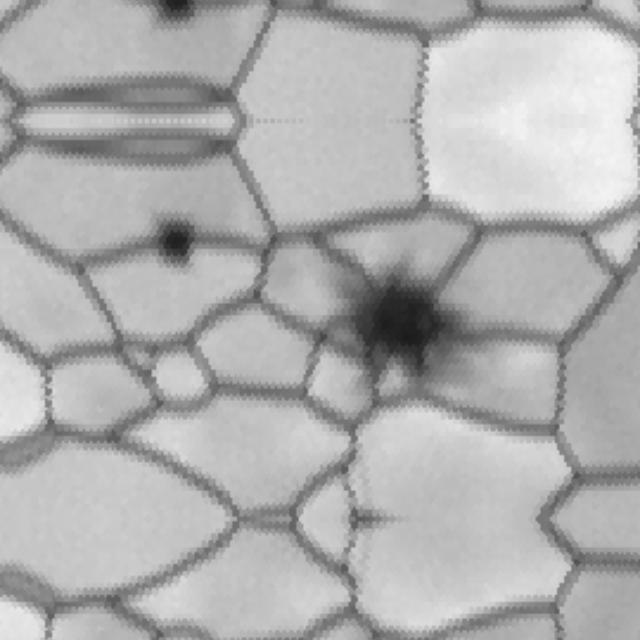good_void: (337, 251, 493, 408), (143, 206, 205, 279), (143, 0, 205, 37)
